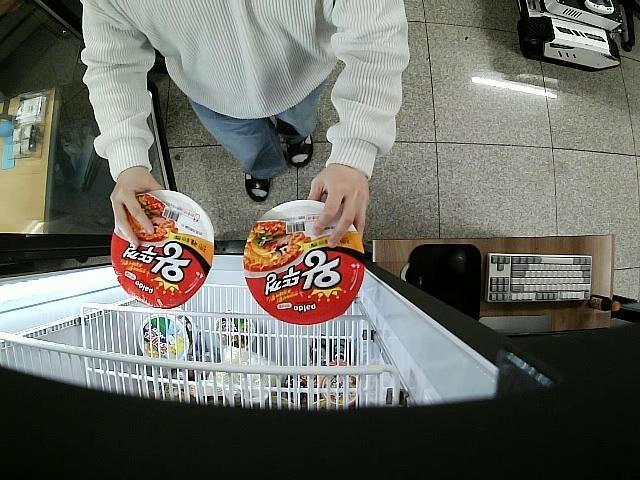10_wangTtukkeong: (243, 200, 364, 324), (111, 189, 215, 310)
